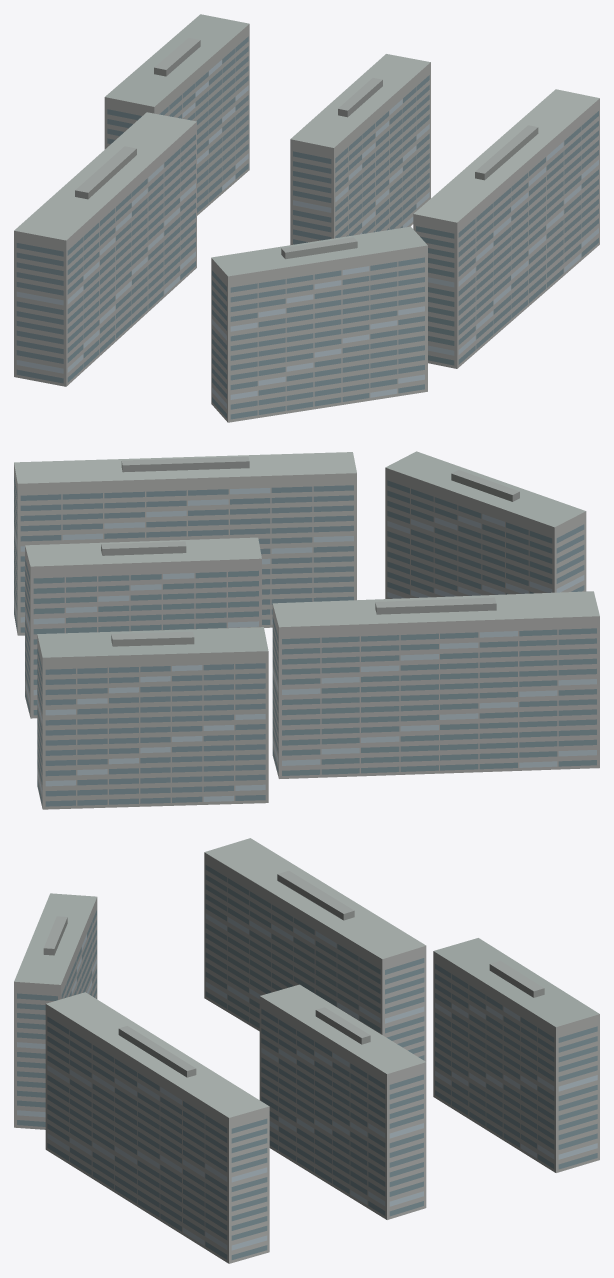
File: apt-a15375809.glb
The picture shows the model from 3 angles, top to bottom: view 1: azimuth 30°, elevation 25°; view 2: azimuth 150°, elevation 25°; view 3: azimuth 270°, elevation 25°; orthographic projection. The views are drawn at different scales.
Parts seen in each view (by area): view 1: apt-a15375809; view 2: apt-a15375809; view 3: apt-a15375809.
Part boxes in pixels (x1,y1,x2,y2): apt-a15375809: [14, 14, 599, 422]; apt-a15375809: [14, 451, 599, 809]; apt-a15375809: [14, 838, 599, 1263].
Size of the model in its own units: 188 by 47.81 by 166.
